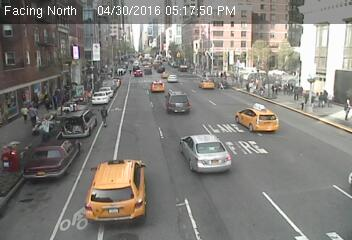neg: (191, 131, 235, 189), (236, 92, 274, 144), (189, 76, 209, 101), (72, 5, 87, 25), (85, 45, 99, 64), (121, 8, 134, 25), (176, 24, 189, 41)
